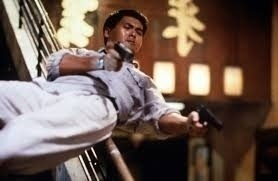pistol: (194, 101, 227, 135), (111, 40, 136, 67)
